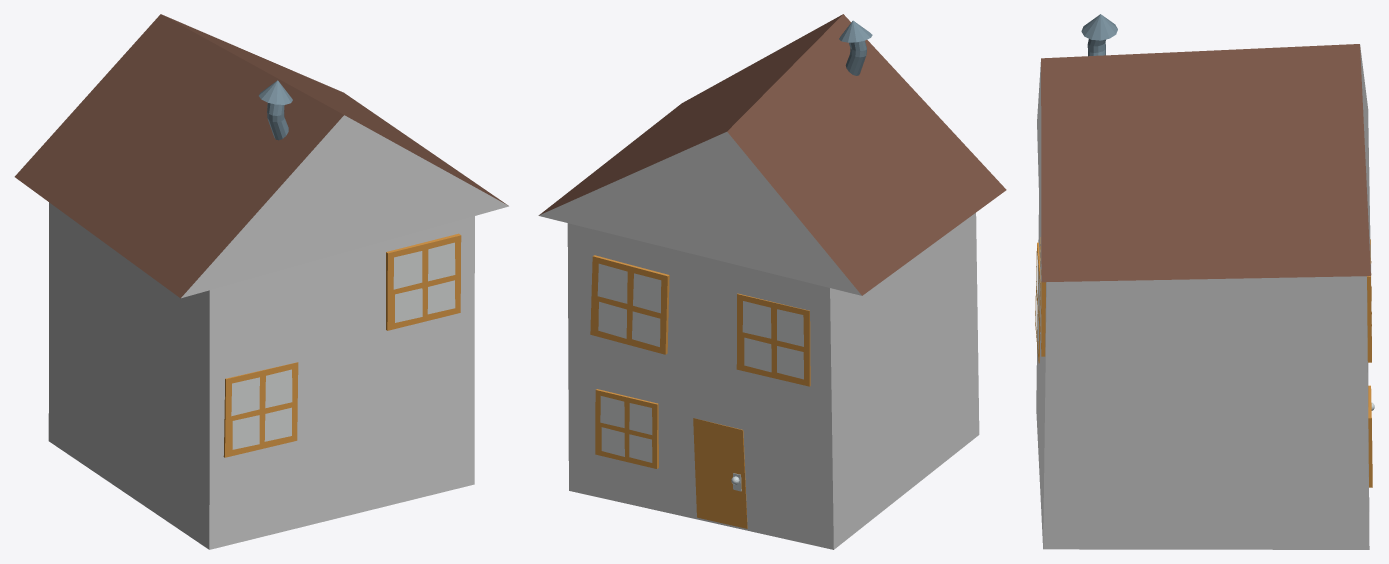
File: house-1.glb
3 views of the same model, side by side, from view 1: azimuth 30°, elevation 25°; view 2: azimuth 150°, elevation 25°; view 3: azimuth 270°, elevation 25° (orthographic). The views are drawn at different scales.
Visible parts, largest first — view 1: group266566187; view 2: group266566187; view 3: group266566187.
Part boxes in pixels (x1,y1,x2,y2): group266566187: (14,14,508,549); group266566187: (538,14,1006,549); group266566187: (1035,14,1374,549).
Bounding box in the file's own units: 0.8985 × 1.08 × 0.7376.
